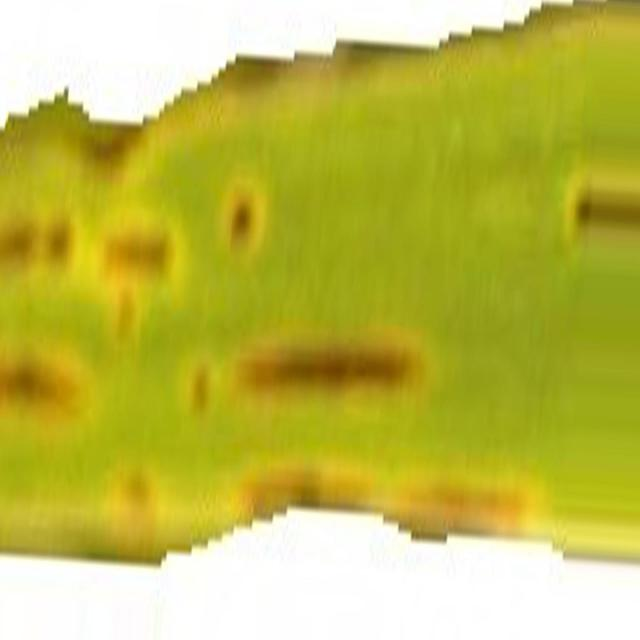Brown_Spot: (238, 328, 416, 391), (0, 351, 82, 413), (108, 239, 168, 274), (48, 215, 79, 277), (0, 222, 42, 266), (581, 192, 640, 221), (231, 199, 252, 249), (58, 220, 59, 222)
